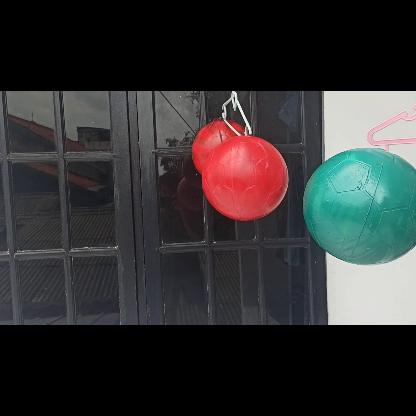red_ball: (202, 134, 286, 218)
